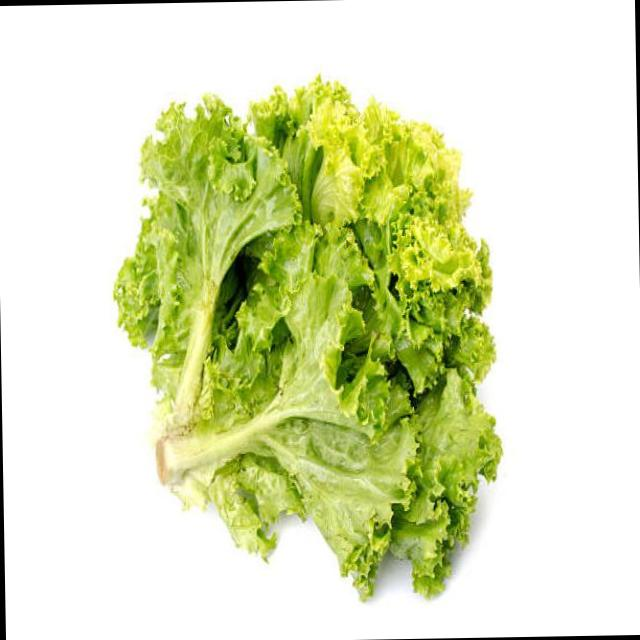Lettuce-Ready-to-Harvest: (114, 80, 500, 594)
